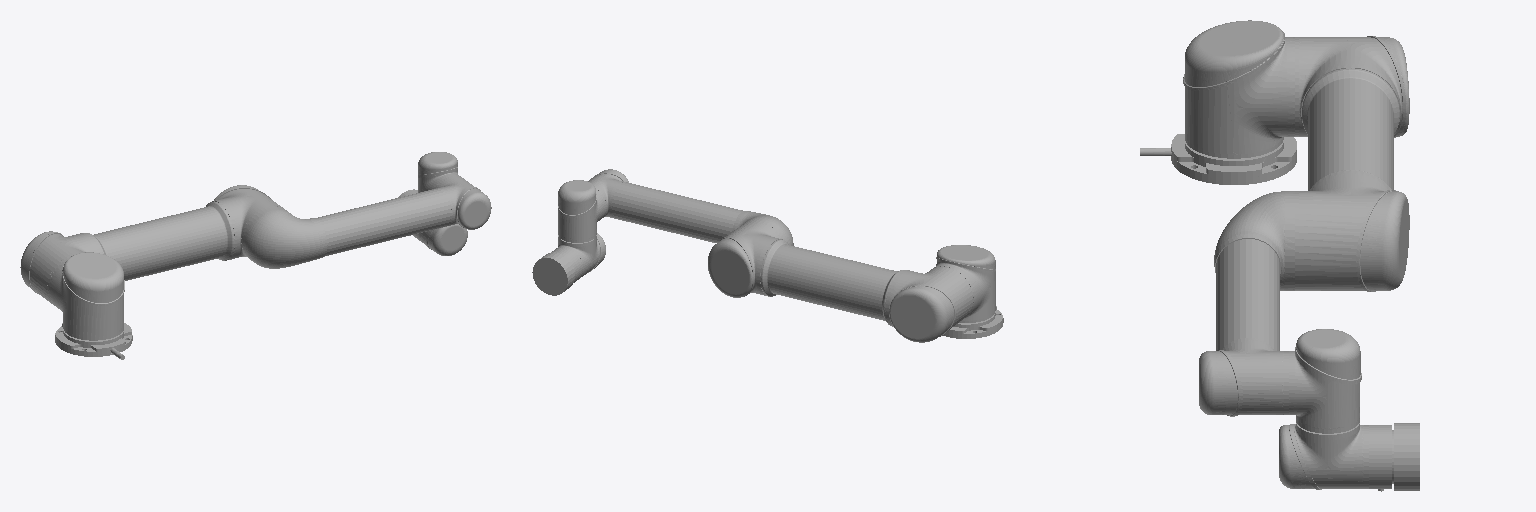
robot.urdf — ur5:
<?xml version="1.0" encoding="utf-8"?>
<!-- =================================================================================== -->
<!-- |    This document was autogenerated by xacro from ur5_robot.urdf.xacro           | -->
<!-- |    EDITING THIS FILE BY HAND IS NOT RECOMMENDED                                 | -->
<!-- =================================================================================== -->
<robot name="ur5" xmlns:xacro="http://wiki.ros.org/xacro">
  <link name="base_link">
    <visual>
      <geometry>
        <mesh filename="package://meshes/visual/base.dae"/>
      </geometry>
      <material name="LightGrey">
        <color rgba="0.7 0.7 0.7 1.0"/>
      </material>
    </visual>
    <collision>
      <geometry>
        <mesh filename="package://meshes/collision/base.stl"/>
      </geometry>
    </collision>
    <inertial>
      <mass value="4.0"/>
      <origin rpy="0 0 0" xyz="0.0 0.0 0.0"/>
      <inertia ixx="0.00443333156" ixy="0.0" ixz="0.0" iyy="0.00443333156" iyz="0.0" izz="0.0072"/>
    </inertial>
  </link>

  <joint name="shoulder_pan_joint" type="revolute">
    <parent link="base_link"/>
    <child link="shoulder_link"/>
    <origin rpy="0.0 0.0 0.0" xyz="0.0 0.0 0.089159"/>
    <axis xyz="0 0 1"/>
    <limit effort="150.0" lower="-6.28318530718" upper="6.28318530718" velocity="3.15"/>
    <dynamics damping="0.0" friction="0.0"/>
  </joint>
  <link name="shoulder_link">
    <visual>
      <geometry>
        <mesh filename="package://meshes/visual/shoulder.dae"/>
      </geometry>
      <material name="LightGrey">
        <color rgba="0.7 0.7 0.7 1.0"/>
      </material>
    </visual>
    <collision>
      <geometry>
        <mesh filename="package://meshes/collision/shoulder.stl"/>
      </geometry>
    </collision>
    <inertial>
      <mass value="3.7"/>
      <origin rpy="0 0 0" xyz="0.0 0.0 0.0"/>
      <inertia ixx="0.010267495893" ixy="0.0" ixz="0.0" iyy="0.010267495893" iyz="0.0" izz="0.00666"/>
    </inertial>
  </link>
  <joint name="shoulder_lift_joint" type="revolute">
    <parent link="shoulder_link"/>
    <child link="upper_arm_link"/>
    <origin rpy="0.0 1.57079632679 0.0" xyz="0.0 0.13585 0.0"/>
    <axis xyz="0 1 0"/>
    <limit effort="150.0" lower="-6.28318530718" upper="6.28318530718" velocity="3.15"/>
    <dynamics damping="0.0" friction="0.0"/>
  </joint>
  <link name="upper_arm_link">
    <visual>
      <geometry>
        <mesh filename="package://meshes/visual/upperarm.dae"/>
      </geometry>
      <material name="LightGrey">
        <color rgba="0.7 0.7 0.7 1.0"/>
      </material>
    </visual>
    <collision>
      <geometry>
        <mesh filename="package://meshes/collision/upperarm.stl"/>
      </geometry>
    </collision>
    <inertial>
      <mass value="8.393"/>
      <origin rpy="0 0 0" xyz="0.0 0.0 0.28"/>
      <inertia ixx="0.22689067591" ixy="0.0" ixz="0.0" iyy="0.22689067591" iyz="0.0" izz="0.0151074"/>
    </inertial>
  </link>
  <joint name="elbow_joint" type="revolute">
    <parent link="upper_arm_link"/>
    <child link="forearm_link"/>
    <origin rpy="0.0 0.0 0.0" xyz="0.0 -0.1197 0.425"/>
    <axis xyz="0 1 0"/>
    <limit effort="150.0" lower="-3.14159265359" upper="3.14159265359" velocity="3.15"/>
    <dynamics damping="0.0" friction="0.0"/>
  </joint>
  <link name="forearm_link">
    <visual>
      <geometry>
        <mesh filename="package://meshes/visual/forearm.dae"/>
      </geometry>
      <material name="LightGrey">
        <color rgba="0.7 0.7 0.7 1.0"/>
      </material>
    </visual>
    <collision>
      <geometry>
        <mesh filename="package://meshes/collision/forearm.stl"/>
      </geometry>
    </collision>
    <inertial>
      <mass value="2.275"/>
      <origin rpy="0 0 0" xyz="0.0 0.0 0.25"/>
      <inertia ixx="0.049443313556" ixy="0.0" ixz="0.0" iyy="0.049443313556" iyz="0.0" izz="0.004095"/>
    </inertial>
  </link>
  <joint name="wrist_1_joint" type="revolute">
    <parent link="forearm_link"/>
    <child link="wrist_1_link"/>
    <origin rpy="0.0 1.57079632679 0.0" xyz="0.0 0.0 0.39225"/>
    <axis xyz="0 1 0"/>
    <limit effort="28.0" lower="-6.28318530718" upper="6.28318530718" velocity="3.2"/>
    <dynamics damping="0.0" friction="0.0"/>
  </joint>
  <link name="wrist_1_link">
    <visual>
      <geometry>
        <mesh filename="package://meshes/visual/wrist1.dae"/>
      </geometry>
      <material name="LightGrey">
        <color rgba="0.7 0.7 0.7 1.0"/>
      </material>
    </visual>
    <collision>
      <geometry>
        <mesh filename="package://meshes/collision/wrist1.stl"/>
      </geometry>
    </collision>
    <inertial>
      <mass value="1.219"/>
      <origin rpy="0 0 0" xyz="0.0 0.0 0.0"/>
      <inertia ixx="0.111172755531" ixy="0.0" ixz="0.0" iyy="0.111172755531" iyz="0.0" izz="0.21942"/>
    </inertial>
  </link>
  <joint name="wrist_2_joint" type="revolute">
    <parent link="wrist_1_link"/>
    <child link="wrist_2_link"/>
    <origin rpy="0.0 0.0 0.0" xyz="0.0 0.093 0.0"/>
    <axis xyz="0 0 1"/>
    <limit effort="28.0" lower="-6.28318530718" upper="6.28318530718" velocity="3.2"/>
    <dynamics damping="0.0" friction="0.0"/>
  </joint>
  <link name="wrist_2_link">
    <visual>
      <geometry>
        <mesh filename="package://meshes/visual/wrist2.dae"/>
      </geometry>
      <material name="LightGrey">
        <color rgba="0.7 0.7 0.7 1.0"/>
      </material>
    </visual>
    <collision>
      <geometry>
        <mesh filename="package://meshes/collision/wrist2.stl"/>
      </geometry>
    </collision>
    <inertial>
      <mass value="1.219"/>
      <origin rpy="0 0 0" xyz="0.0 0.0 0.0"/>
      <inertia ixx="0.111172755531" ixy="0.0" ixz="0.0" iyy="0.111172755531" iyz="0.0" izz="0.21942"/>
    </inertial>
  </link>
  <joint name="wrist_3_joint" type="revolute">
    <parent link="wrist_2_link"/>
    <child link="wrist_3_link"/>
    <origin rpy="0.0 0.0 0.0" xyz="0.0 0.0 0.09465"/>
    <axis xyz="0 1 0"/>
    <limit effort="28.0" lower="-6.28318530718" upper="6.28318530718" velocity="3.2"/>
    <dynamics damping="0.0" friction="0.0"/>
  </joint>
  <link name="wrist_3_link">
    <visual>
      <geometry>
        <mesh filename="package://meshes/visual/wrist3.dae"/>
      </geometry>
      <material name="LightGrey">
        <color rgba="0.7 0.7 0.7 1.0"/>
      </material>
    </visual>
    <collision>
      <geometry>
        <mesh filename="package://meshes/collision/wrist3.stl"/>
      </geometry>
    </collision>
    <inertial>
      <mass value="0.1879"/>
      <origin rpy="0 0 0" xyz="0.0 0.0 0.0"/>
      <inertia ixx="0.0171364731454" ixy="0.0" ixz="0.0" iyy="0.0171364731454" iyz="0.0" izz="0.033822"/>
    </inertial>
  </link>
  <joint name="ee_fixed_joint" type="fixed">
    <parent link="wrist_3_link"/>
    <child link="ee_link"/>
    <origin rpy="0.0 0.0 1.57079632679" xyz="0.0 0.0823 0.0"/>
  </joint>
  <link name="ee_link">
    <collision>
      <geometry>
        <box size="0.01 0.01 0.01"/>
      </geometry>
      <origin rpy="0 0 0" xyz="-0.01 0 0"/>
    </collision>
  </link>
  <joint name="panda_spade_joint" type="fixed">
        <parent link="ee_link" />
        <child link="panda_holder" />
        <origin rpy="0 1.57079632679 0" xyz="0.01 0. 0" />
    </joint>
    <link name="panda_holder">
        <visual>
            <geometry>
                <cylinder length="0.03" radius="0.04"/>
            </geometry>
            <material name="LightGrey">
    		    <color rgba="0.7 0.7 0.7 1.0"/>
  		    </material>
        </visual>
        <collision>
            <geometry>
                <cylinder length="0.003" radius="0.04"/>
            </geometry>
<!--            <material name="panda_white">-->
<!--    		    <color rgba="1. 1. 1. 1."/>-->
<!--  		    </material>-->
        </collision>

    </link>

</robot>

--- Render facts (derived) ---
Views: 3 orthographic renders of the robot side by side, from view 1: azimuth 30°, elevation 25°; view 2: azimuth 150°, elevation 25°; view 3: azimuth 270°, elevation 25°.
Robot: ur5 — 9 links, 8 joints (6 revolute, 2 fixed); root link base_link; default pose: all joints at 0.
Visible links, largest first — view 1: upper_arm_link, forearm_link, shoulder_link, base_link, wrist_1_link, wrist_2_link; view 2: upper_arm_link, forearm_link, shoulder_link, wrist_1_link, panda_holder, wrist_2_link, base_link; view 3: upper_arm_link, forearm_link, shoulder_link, wrist_1_link, wrist_2_link, base_link, panda_holder, wrist_3_link.
Boxes of the visible links, bbox=[...] form: upper_arm_link: bbox=[20, 185, 283, 305]; forearm_link: bbox=[243, 175, 491, 268]; shoulder_link: bbox=[49, 252, 124, 340]; base_link: bbox=[55, 323, 132, 359]; wrist_1_link: bbox=[418, 152, 458, 192]; wrist_2_link: bbox=[413, 224, 467, 255]; upper_arm_link: bbox=[708, 221, 973, 342]; forearm_link: bbox=[588, 169, 793, 245]; shoulder_link: bbox=[934, 245, 995, 322]; wrist_1_link: bbox=[558, 180, 605, 242]; panda_holder: bbox=[532, 252, 574, 295]; wrist_2_link: bbox=[556, 233, 605, 279]; base_link: bbox=[942, 306, 1003, 338]; upper_arm_link: bbox=[1295, 36, 1409, 291]; forearm_link: bbox=[1199, 191, 1294, 416]; shoulder_link: bbox=[1183, 20, 1294, 158]; wrist_1_link: bbox=[1289, 329, 1361, 433]; wrist_2_link: bbox=[1279, 423, 1368, 489]; base_link: bbox=[1140, 134, 1296, 184]; panda_holder: bbox=[1394, 423, 1419, 490]; wrist_3_link: bbox=[1369, 425, 1393, 491].
Size in the robot's own frame: 0.9306 by 0.3264 by 0.2062 metres.
7 mesh visuals loaded from 7 distinct referenced files (7 Collada DAE).